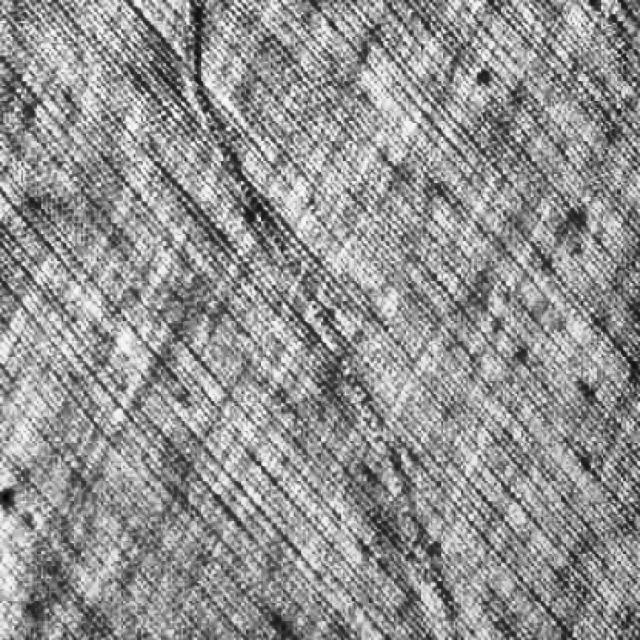thread_error: (175, 1, 393, 304), (290, 307, 466, 637)
